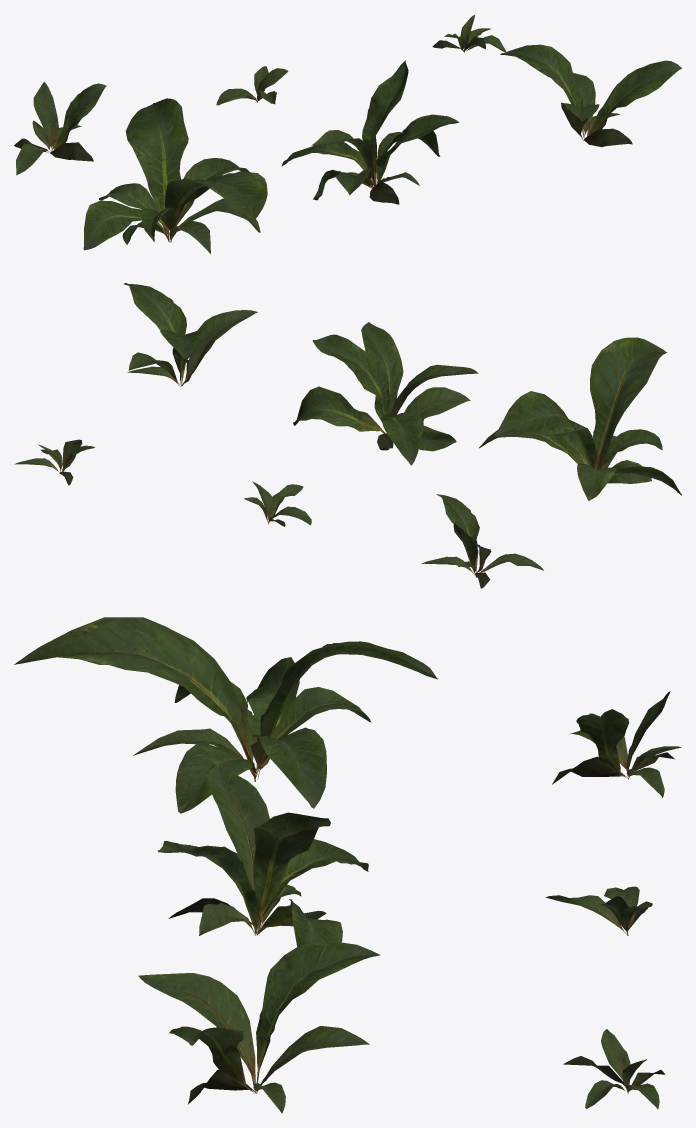
Rendered from anthurium.glb.
3 views of the same model, one above another, from view 1: azimuth 30°, elevation 25°; view 2: azimuth 150°, elevation 25°; view 3: azimuth 270°, elevation 25° (orthographic). The views are drawn at different scales.
Visible parts, largest first — view 1: anthurium_botany_01_a; view 2: anthurium_botany_01_a; view 3: anthurium_botany_01_a.
Part boxes in pixels (bbox=[...]): anthurium_botany_01_a: bbox=[14, 15, 681, 254]; anthurium_botany_01_a: bbox=[14, 283, 681, 588]; anthurium_botany_01_a: bbox=[14, 617, 681, 1113].
Size of the model in its own units: 2.79 by 0.4982 by 1.8.
Materials: 1 (1 with a texture image).
